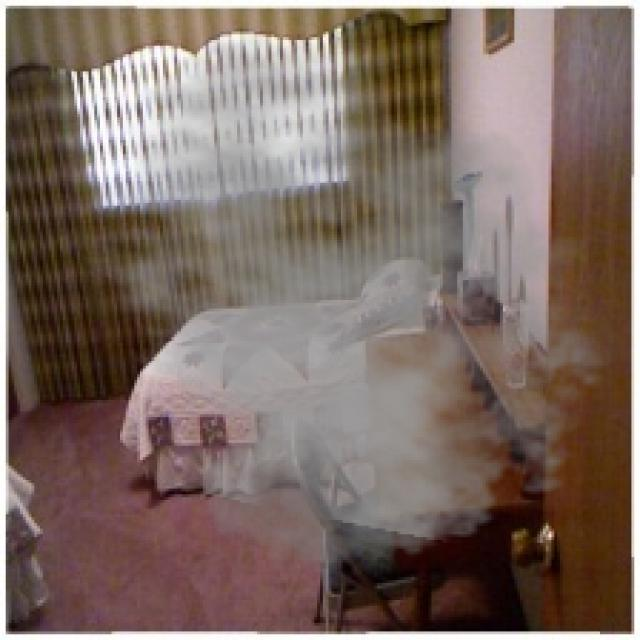smoke: (60, 31, 629, 580)
